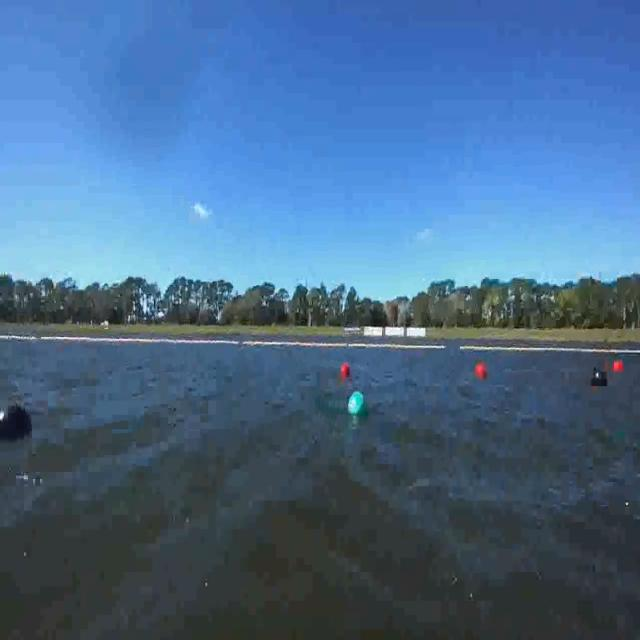black-buoy: (0, 397, 33, 437), (590, 360, 608, 384)
green-buoy: (350, 393, 366, 419)
red-buoy: (476, 361, 489, 380), (342, 362, 352, 378), (614, 360, 624, 372)
